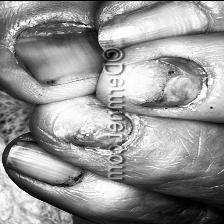Toxin: (12, 16, 100, 86), (52, 102, 138, 148), (134, 51, 204, 107)
